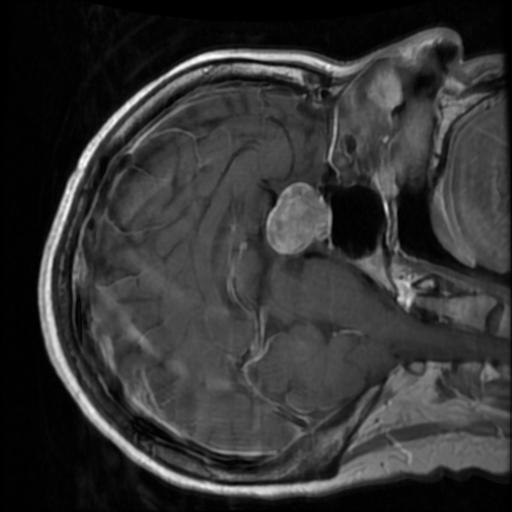pituitary tumour: (263, 181, 333, 256)
